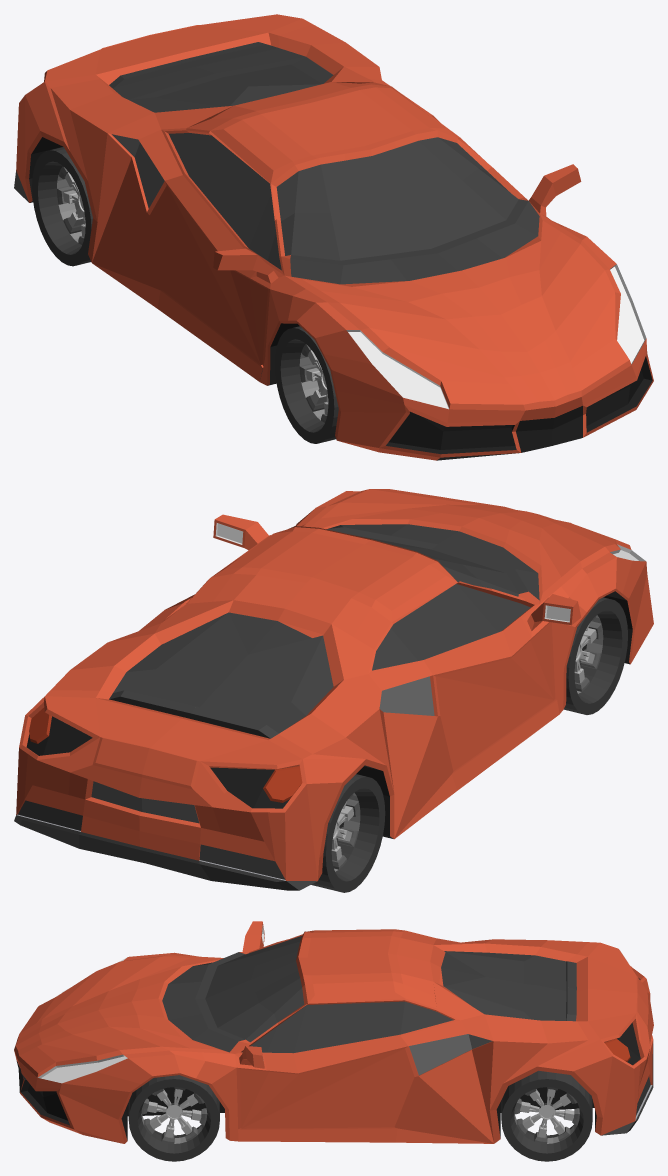
The model's file is ferrari488gtb.fbx.
3 renders of one model, top to bottom at view 1: azimuth 30°, elevation 25°; view 2: azimuth 150°, elevation 25°; view 3: azimuth 270°, elevation 25°, orthographic. The views are drawn at different scales.
Visible parts, largest first — view 1: RedBody, FrontRight, BackRight; view 2: RedBody, BackRight, FrontRight; view 3: RedBody, BackLeft, FrontLeft.
Part boxes in pixels (x1,y1,x2,y2): RedBody: [14, 14, 653, 460]; FrontRight: [275, 326, 338, 443]; BackRight: [32, 147, 92, 266]; RedBody: [14, 489, 653, 890]; BackRight: [311, 774, 385, 892]; FrontRight: [563, 597, 627, 714]; RedBody: [14, 921, 653, 1143]; BackLeft: [501, 1070, 592, 1161]; FrontLeft: [128, 1075, 219, 1161].
Size of the model in its own units: 2.32 by 4.61 by 1.22.
